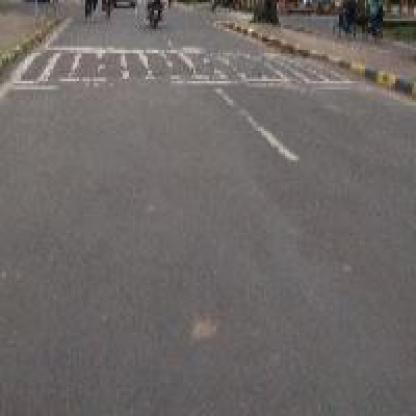Speed Bump: (2, 38, 381, 92)
